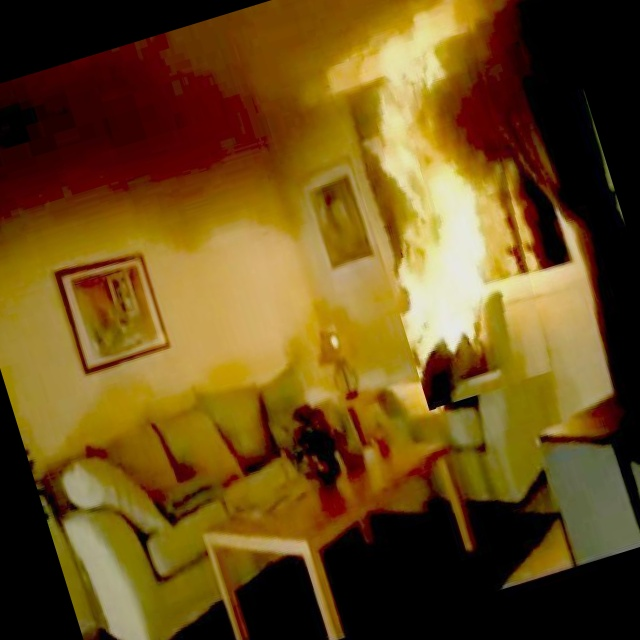fire: (265, 0, 606, 431)
